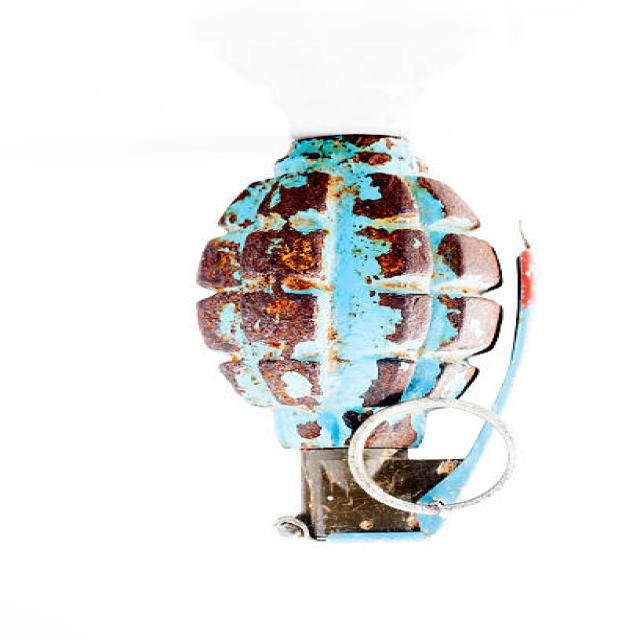grenade: (179, 126, 546, 545)
